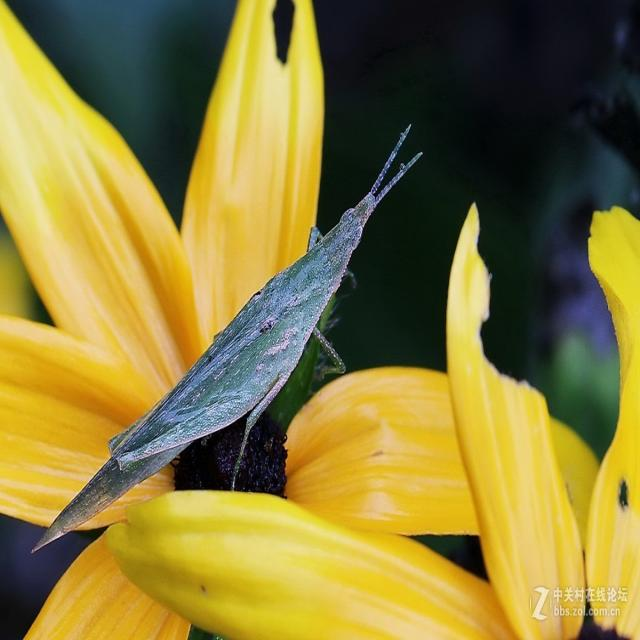ZhaMeng: (51, 137, 417, 547)
